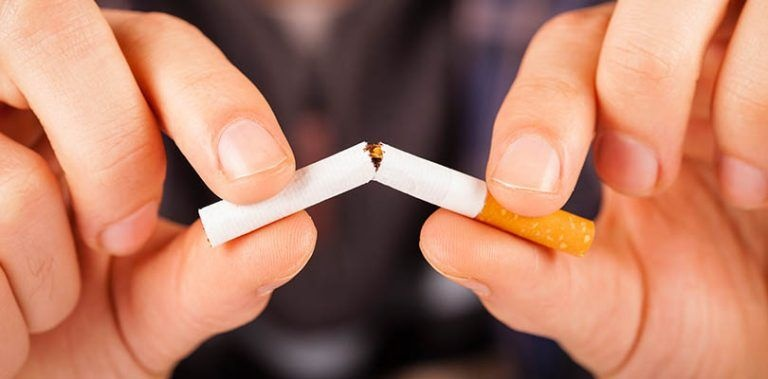sigaretta: (189, 133, 631, 271)
